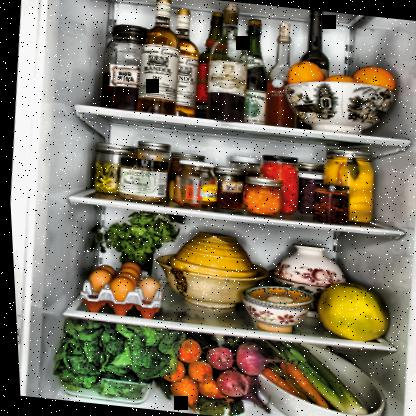apple: (312, 280, 390, 342)
carrot: (263, 370, 313, 399)
eggs: (133, 276, 159, 300), (107, 276, 132, 300), (84, 268, 109, 291), (113, 272, 136, 284), (94, 264, 113, 276), (118, 261, 138, 270), (116, 266, 136, 275)
orange: (351, 63, 396, 88), (287, 60, 323, 84), (323, 72, 355, 83)
parsley: (109, 210, 168, 254)
pickles: (90, 161, 119, 192)
radish: (230, 340, 267, 376), (211, 370, 245, 398), (201, 346, 231, 370)
spring_onion: (283, 351, 366, 412)
